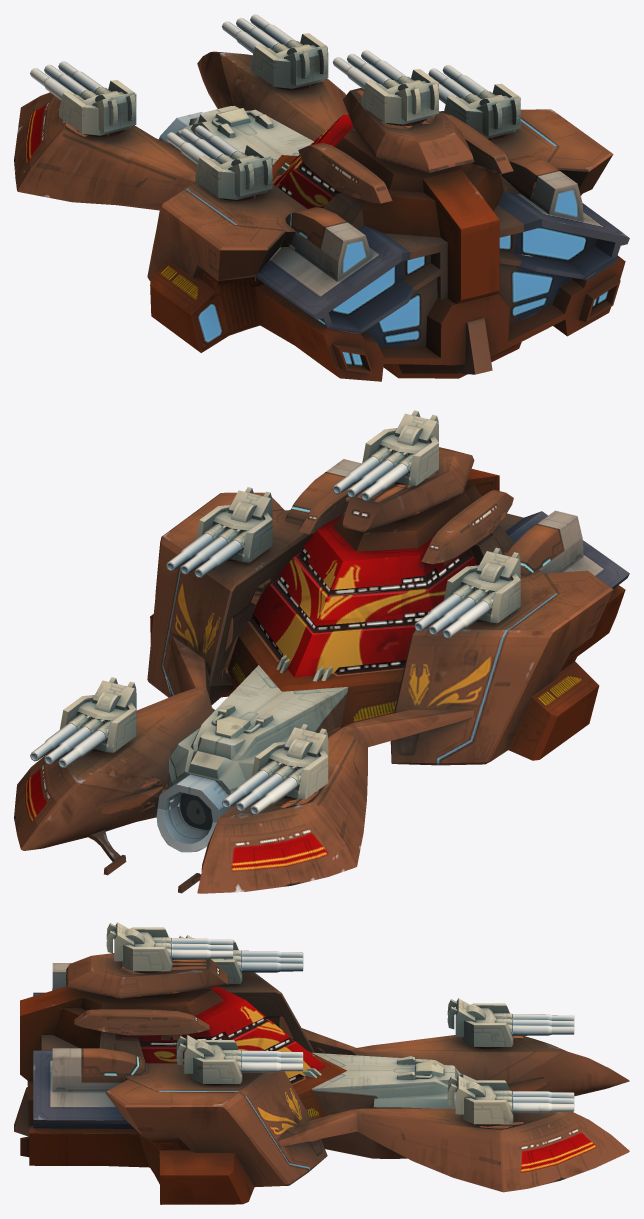
File: spaceship-scene.fbx
The picture shows the model from 3 angles, top to bottom: view 1: azimuth 30°, elevation 25°; view 2: azimuth 150°, elevation 25°; view 3: azimuth 270°, elevation 25°; orthographic projection. The views are drawn at different scales.
Visible parts, largest first — view 1: scryveship_ScryveShip; view 2: scryveship_ScryveShip; view 3: scryveship_ScryveShip.
Part boxes in pixels (x1,y1,x2,y2): scryveship_ScryveShip: (14, 14, 629, 381); scryveship_ScryveShip: (14, 410, 629, 893); scryveship_ScryveShip: (14, 922, 629, 1204).
Size of the model in its own units: 363 by 228 by 575.
Materials: 1 (1 with a texture image).
